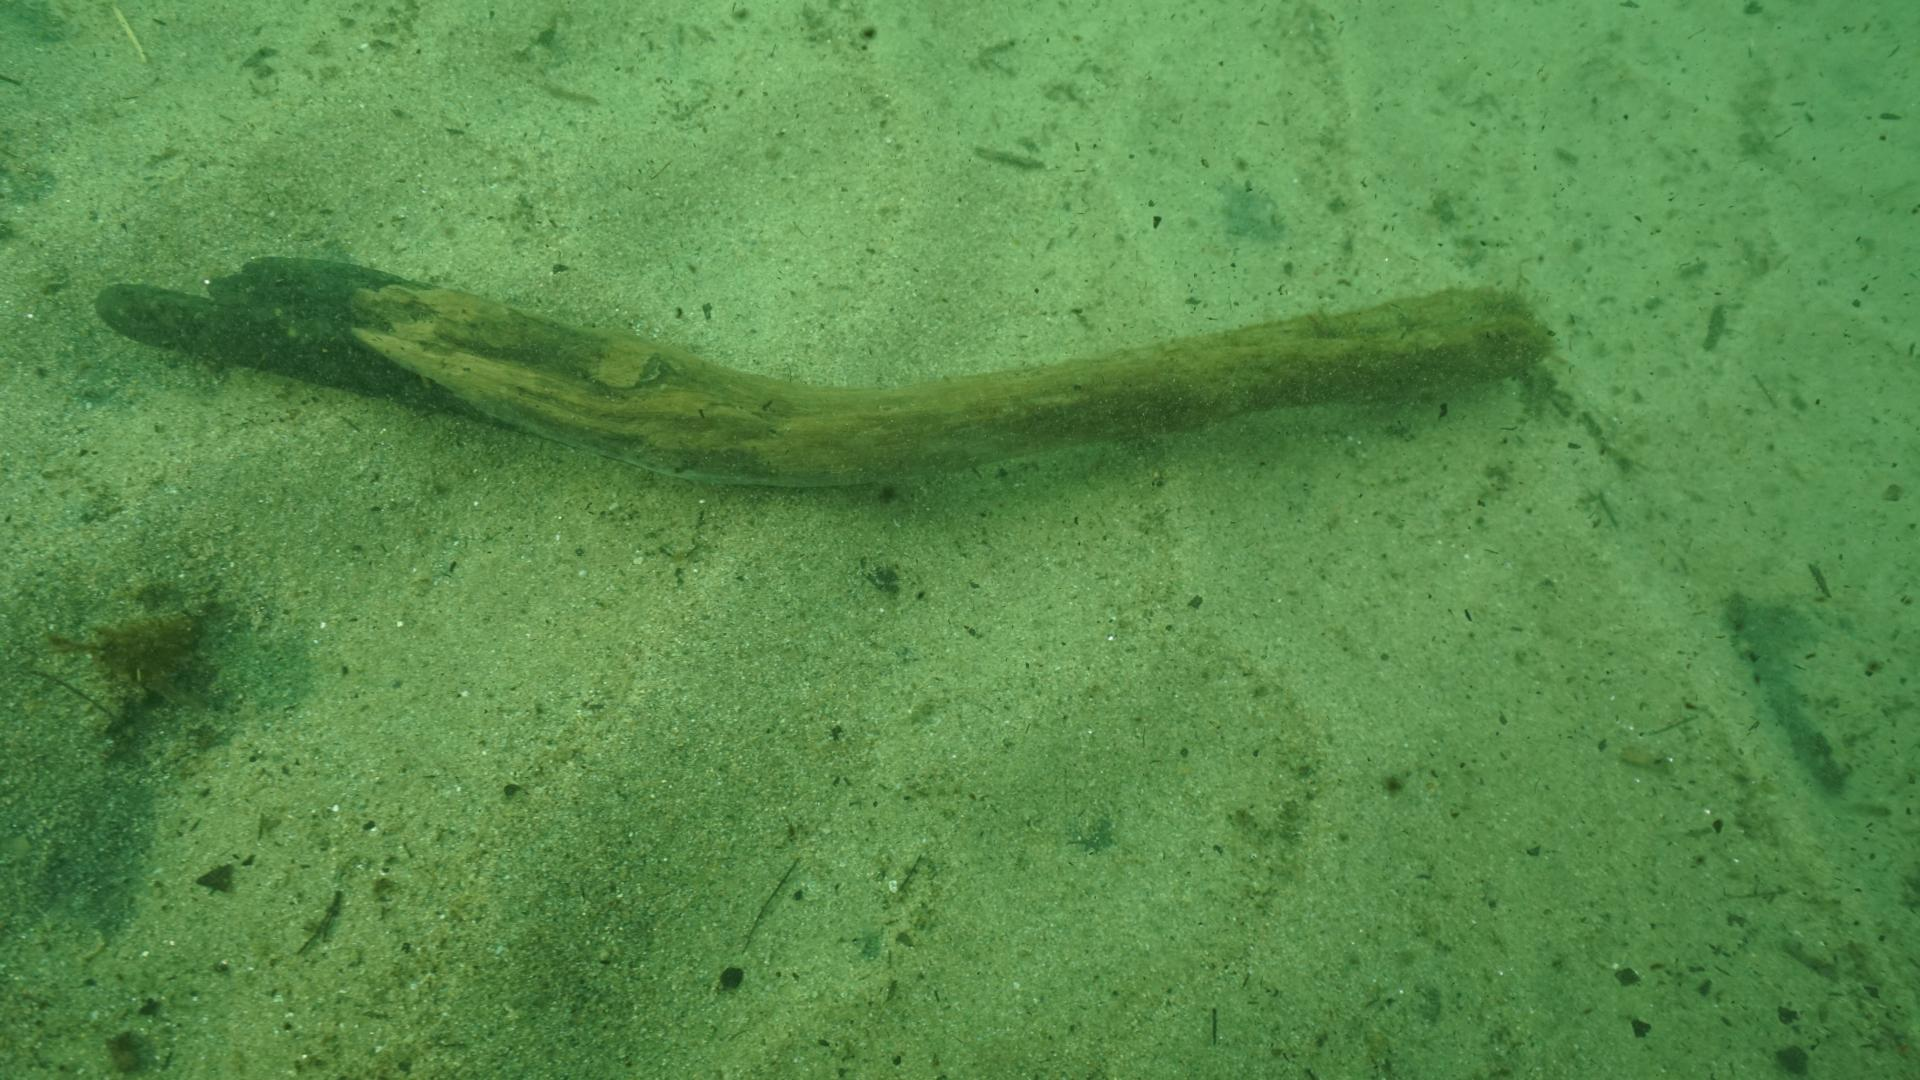wood: (96, 255, 1556, 497)
